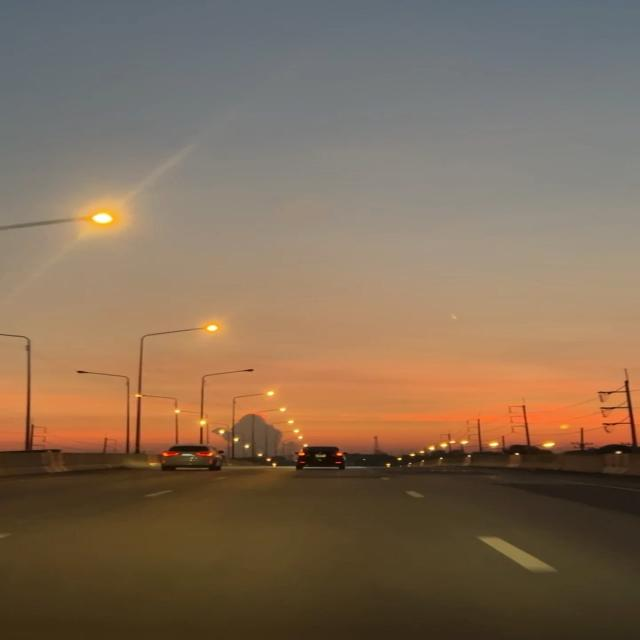Poth-hole: (98, 470, 538, 598)
